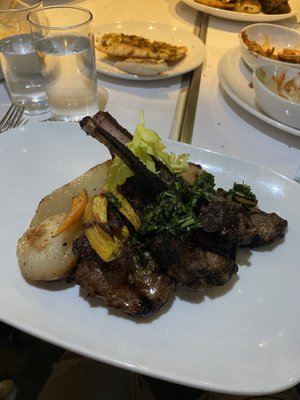burger: (0, 103, 29, 134)
pizza: (28, 5, 98, 121), (0, 1, 47, 116), (0, 34, 50, 116)
sushi: (252, 60, 300, 133), (239, 23, 300, 73)
